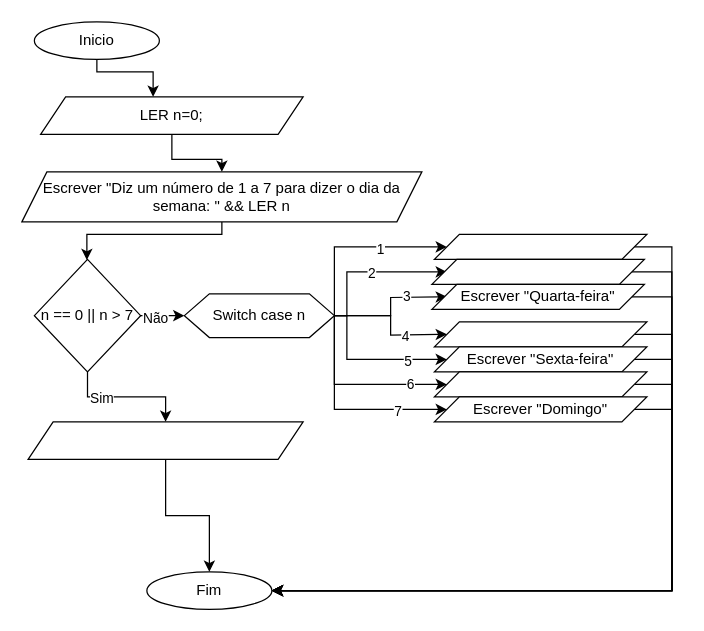
The diagram is 704 pixels wide and 631 high, and some of its shapes have lost their labels. The centre of each missing label's shape, as x and y in pixels:
Escrever "Erro número inválido.": the point at 165,440
Escrever "Quinta-feira": the point at 540,334
Escrever "Segunda-feira": the point at 540,246
Escrever "Sábado": the point at 540,384
Escrever "Terça-feira": the point at 537,271
